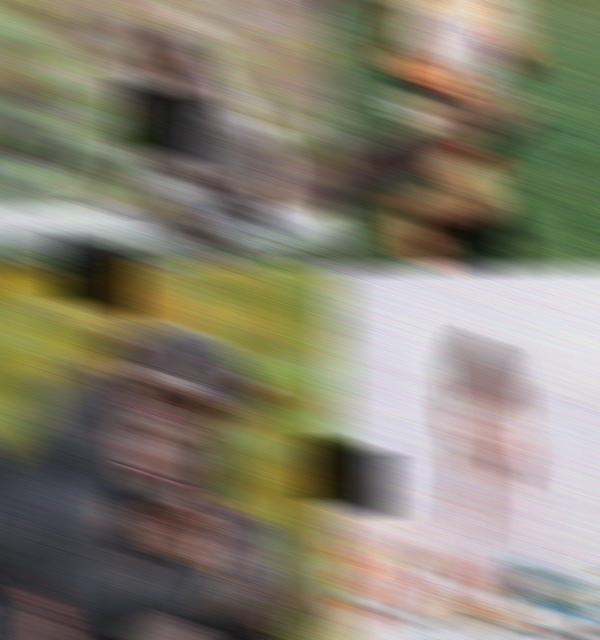Macaca fuscata: (72, 7, 287, 271)
chimpanzee: (0, 318, 304, 640), (326, 0, 523, 271), (133, 489, 298, 640)
human: (406, 328, 563, 594), (375, 0, 524, 271)
